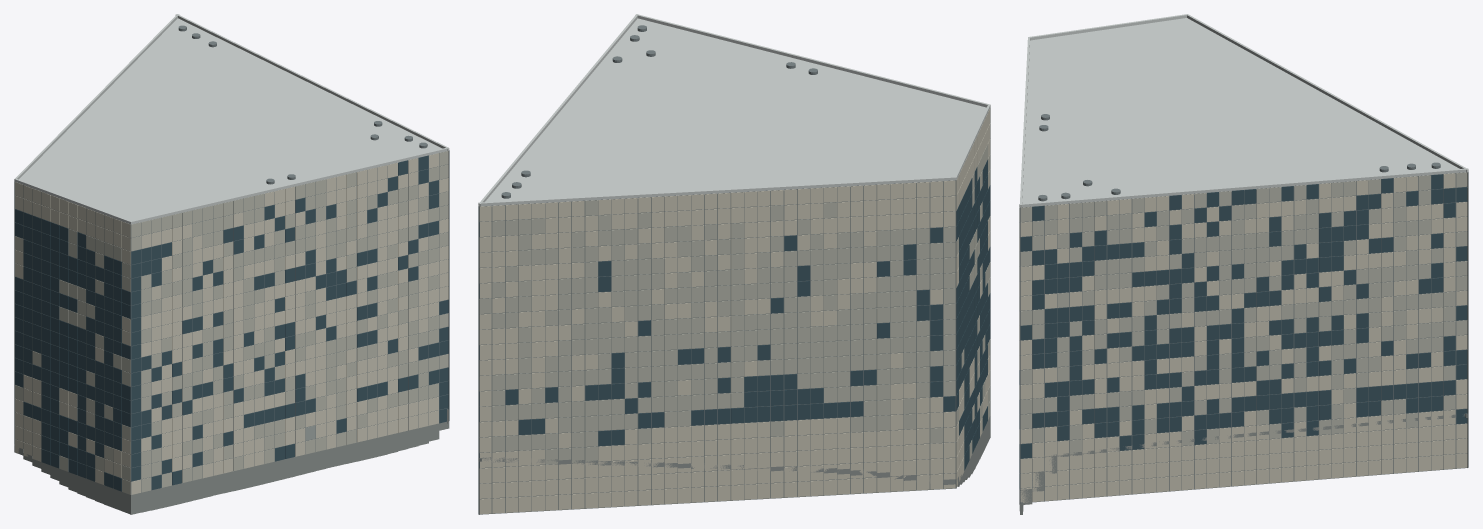
The model's file is authored-melia.glb.
3 renders of one model, left to right at view 1: azimuth 30°, elevation 25°; view 2: azimuth 150°, elevation 25°; view 3: azimuth 270°, elevation 25°, orthographic. The views are drawn at different scales.
Visible parts, largest first — view 1: R155_ROOF_PARAPET, R155_FACADE_PANELS_5, R155_GLAZING, R155_FACADE_PANELS_4, R155_VERTICAL_JOINTS, R155_GROUND_PLINTH; view 2: R155_FACADE_PANELS_5, R155_FACADE_PANELS_4, R155_ROOF_PARAPET, R155_VERTICAL_JOINTS, R155_GLAZING, R155_GROUND_PLINTH; view 3: R155_FACADE_PANELS_5, R155_ROOF_PARAPET, R155_GLAZING, R155_FACADE_PANELS_4, R155_VERTICAL_JOINTS, R155_GROUND_PLINTH.
Part boxes in pixels (<box>): R155_ROOF_PARAPET: <box>14,14,449,224</box>; R155_FACADE_PANELS_5: <box>15,153,448,494</box>; R155_GLAZING: <box>15,155,448,491</box>; R155_FACADE_PANELS_4: <box>15,151,448,494</box>; R155_VERTICAL_JOINTS: <box>14,25,449,494</box>; R155_GROUND_PLINTH: <box>14,409,449,514</box>; R155_FACADE_PANELS_5: <box>479,108,990,514</box>; R155_FACADE_PANELS_4: <box>479,144,990,464</box>; R155_ROOF_PARAPET: <box>478,14,990,206</box>; R155_VERTICAL_JOINTS: <box>478,25,990,514</box>; R155_GLAZING: <box>479,160,990,470</box>; R155_GROUND_PLINTH: <box>478,416,990,487</box>; R155_FACADE_PANELS_5: <box>1019,172,1467,502</box>; R155_ROOF_PARAPET: <box>1019,14,1468,207</box>; R155_GLAZING: <box>1019,174,1467,489</box>; R155_FACADE_PANELS_4: <box>1019,172,1467,454</box>; R155_VERTICAL_JOINTS: <box>1019,114,1468,503</box>; R155_GROUND_PLINTH: <box>1019,413,1468,514</box>.
Bounding box in the file's own units: 44.32 × 34.68 × 44.08.
